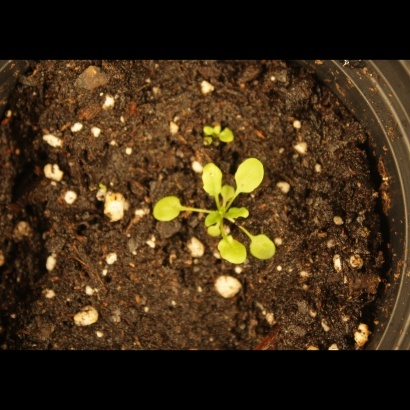leaf: (234, 152, 267, 196), (148, 191, 188, 226), (215, 236, 250, 272), (196, 160, 228, 198), (247, 232, 280, 265), (226, 203, 252, 226), (218, 181, 241, 204), (199, 204, 222, 227), (200, 225, 223, 248)
